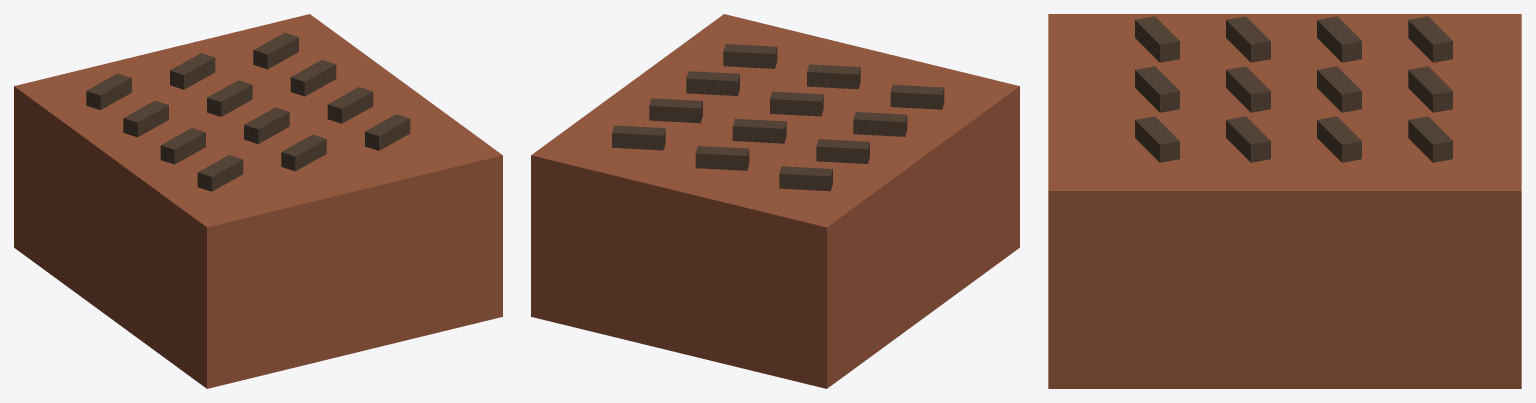
File: pickup-tablet.glb
The picture shows the model from 3 angles, left to right: view 1: azimuth 30°, elevation 25°; view 2: azimuth 150°, elevation 25°; view 3: azimuth 270°, elevation 25°; orthographic projection. The views are drawn at different scales.
Parts seen in each view (by area): view 1: pickup-tablet-surface; view 2: pickup-tablet-surface; view 3: pickup-tablet-surface.
Boxes of the visible parts, box(x1,y1,x2,y2) form: pickup-tablet-surface: box(14, 14, 502, 388); pickup-tablet-surface: box(531, 14, 1019, 388); pickup-tablet-surface: box(1048, 14, 1521, 388).
Size of the model in its own units: 0.23 by 0.131 by 0.26.
